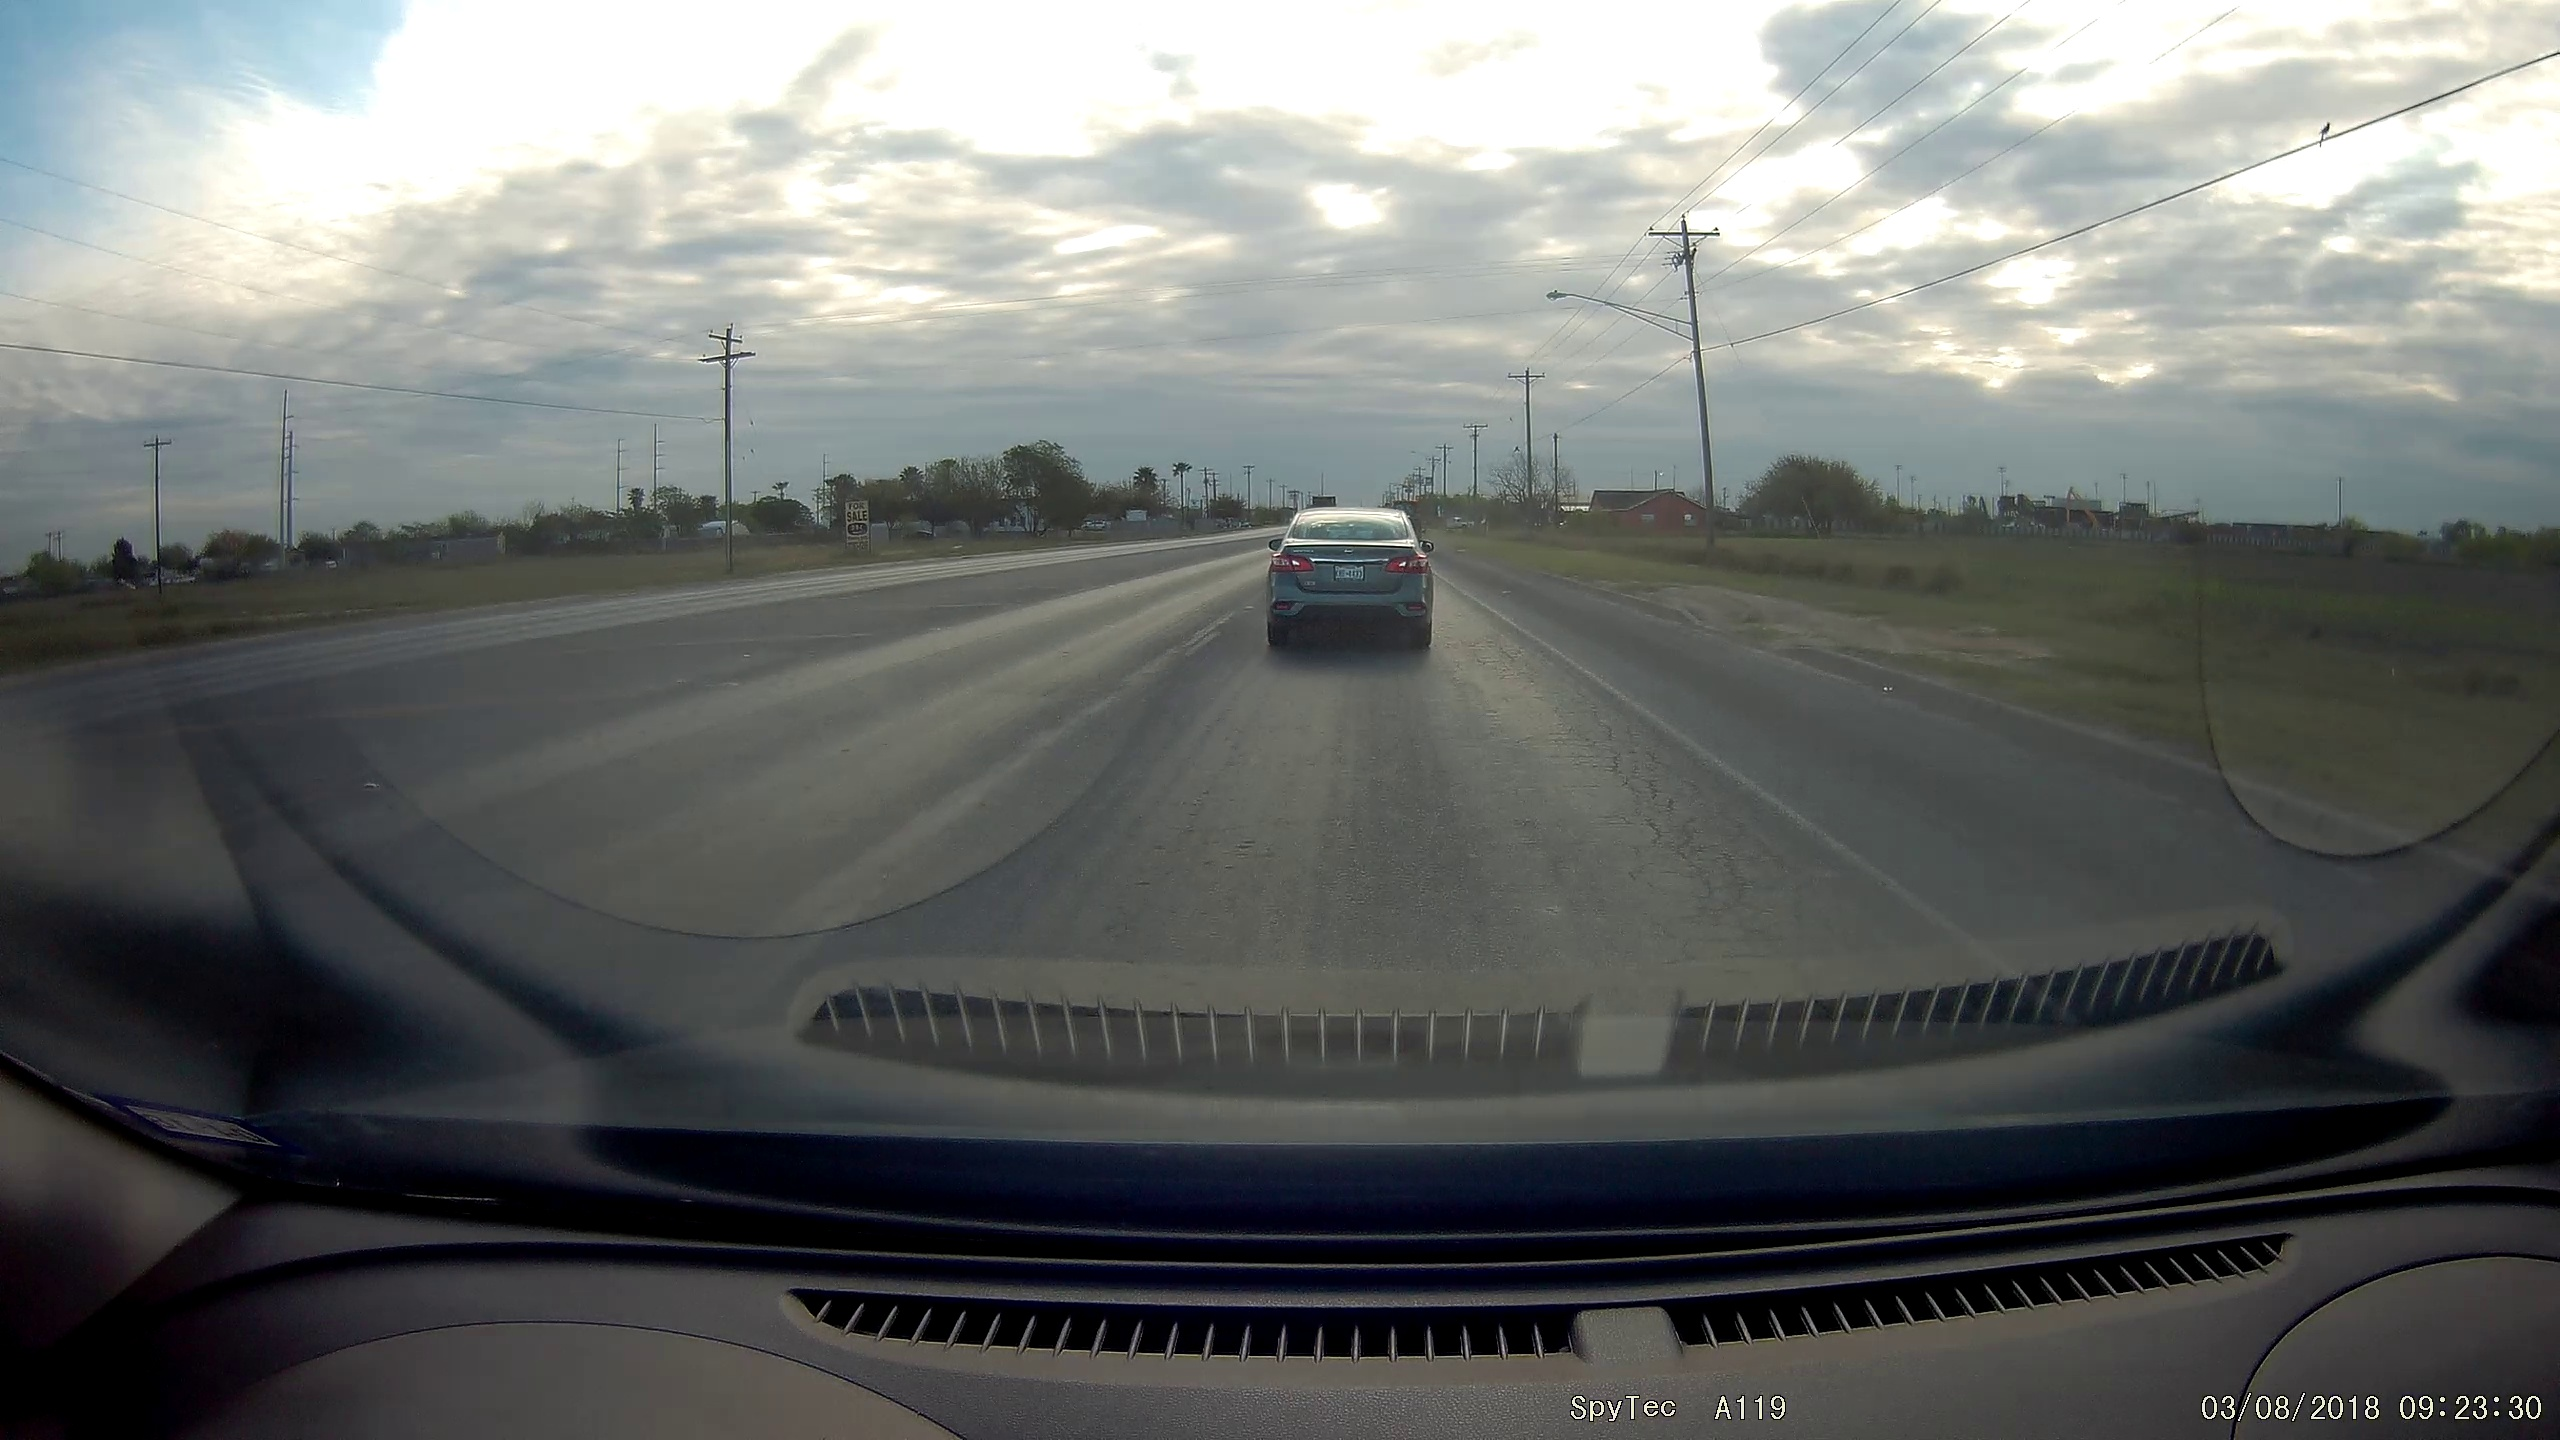alligatorCrack: (1516, 677, 1878, 978)
blurredLine: (172, 628, 707, 890), (649, 744, 1088, 983)
